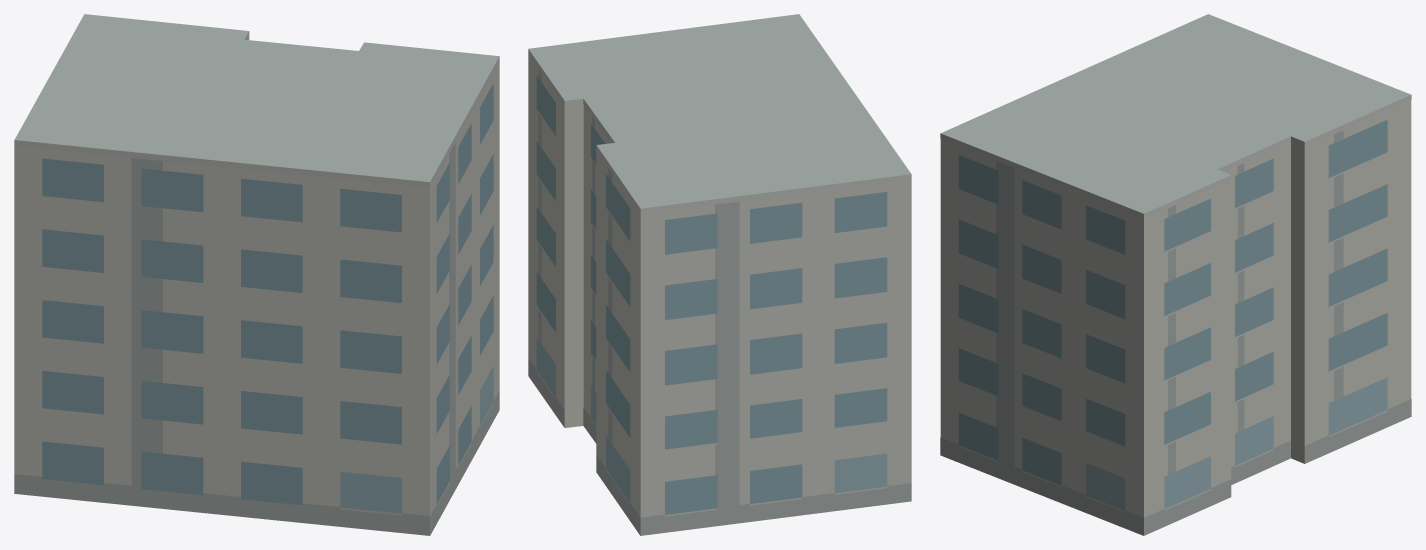
File: survey-upis-33038945.glb
The picture shows the model from 3 angles, left to right: view 1: azimuth 30°, elevation 25°; view 2: azimuth 150°, elevation 25°; view 3: azimuth 270°, elevation 25°; orthographic projection. The views are drawn at different scales.
Parts seen in each view (by area): view 1: survey-upis-33038945.tmp; view 2: survey-upis-33038945.tmp; view 3: survey-upis-33038945.tmp.
Boxes of the visible parts, box(x1,y1,x2,y2) form: survey-upis-33038945.tmp: box(14, 14, 499, 535); survey-upis-33038945.tmp: box(528, 14, 911, 535); survey-upis-33038945.tmp: box(940, 14, 1411, 535).
Bounding box in the file's own units: 19.3 × 14.5 × 19.22.
